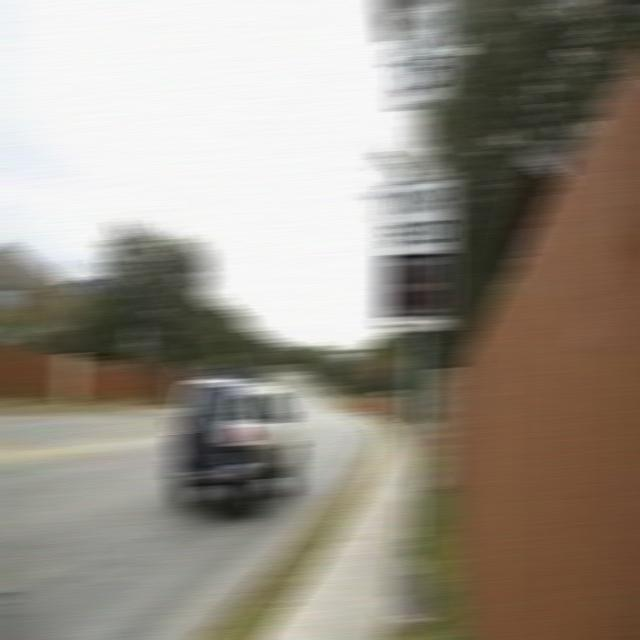speedLimit35: (392, 16, 452, 105)
